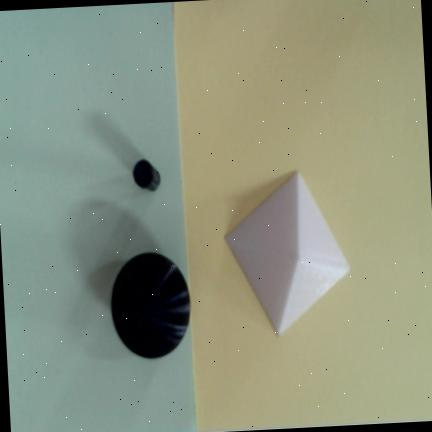Cilindro: (133, 159, 160, 192)
Esfera: (111, 253, 191, 358)
Piramide: (226, 172, 350, 338)
